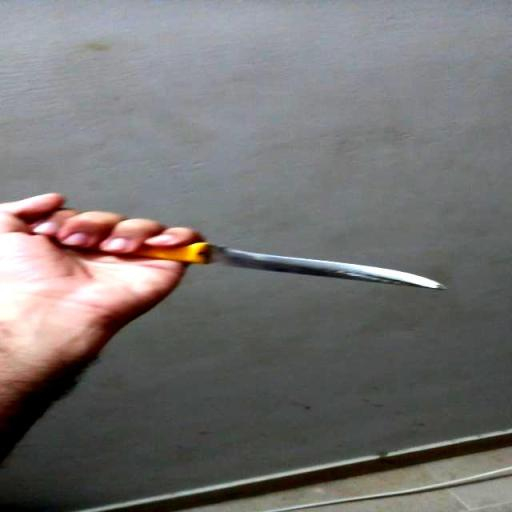knife: (66, 244, 452, 290)
